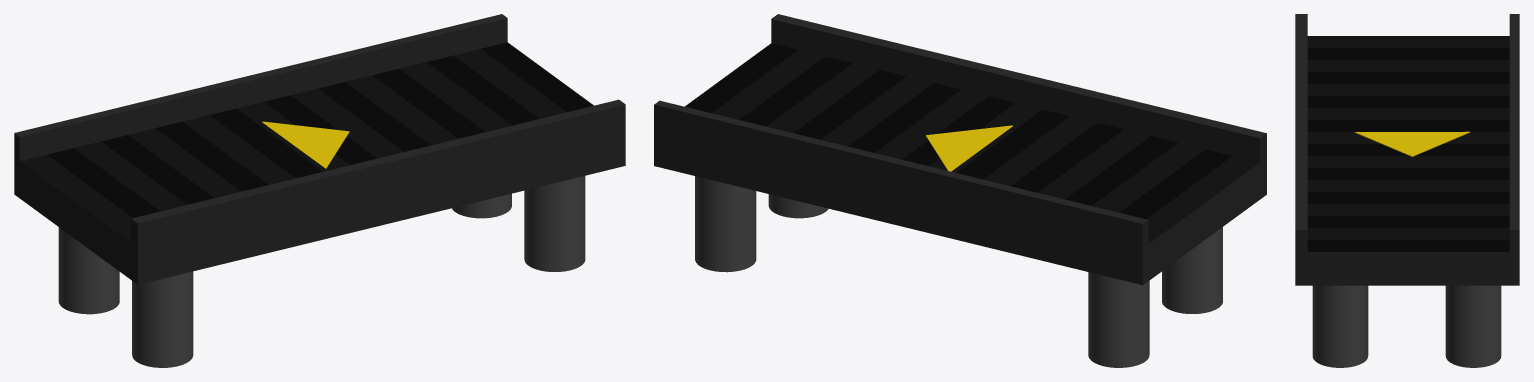
The model's file is belt.fbx.
The picture shows the model from 3 angles, left to right: view 1: azimuth 30°, elevation 25°; view 2: azimuth 150°, elevation 25°; view 3: azimuth 270°, elevation 25°; orthographic projection. The views are drawn at different scales.
Visible parts, largest first — view 1: Main, BlackBelt, LightBelt, BackLegs, FrontLegs, Arrow; view 2: Main, BlackBelt, LightBelt, BackLegs, FrontLegs, Arrow; view 3: BlackBelt, LightBelt, Main, FrontLegs, Arrow.
Boxes of the visible parts, box(x1,y1,x2,y2) form: Main: box(14, 14, 625, 284); BlackBelt: box(47, 42, 593, 217); LightBelt: box(20, 49, 566, 242); BackLegs: box(58, 227, 193, 367); FrontLegs: box(452, 176, 585, 271); Arrow: box(262, 121, 349, 168); Main: box(654, 14, 1266, 285); BlackBelt: box(685, 43, 1232, 218); LightBelt: box(712, 50, 1259, 243); BackLegs: box(1088, 227, 1222, 367); FrontLegs: box(695, 176, 828, 272); Arrow: box(926, 125, 1012, 171); BlackBelt: box(1307, 48, 1509, 251); LightBelt: box(1307, 36, 1509, 239); Main: box(1295, 14, 1519, 285); FrontLegs: box(1312, 285, 1501, 367); Arrow: box(1354, 131, 1469, 156).
Size of the model in its own units: 103 by 32.6 by 45.2.
